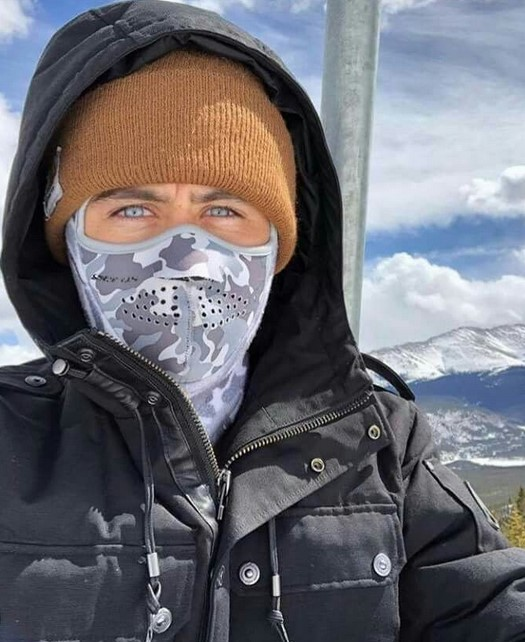face_with_mask: (3, 7, 356, 377)
